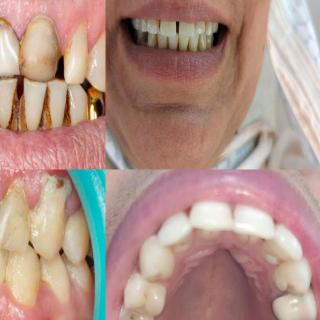Gum Swelling: (0, 278, 95, 320)
calculus: (39, 170, 79, 212), (9, 86, 31, 134), (38, 94, 56, 134), (70, 202, 86, 234), (0, 11, 15, 43), (61, 89, 73, 127)
plaque: (0, 252, 23, 308), (22, 201, 46, 237), (35, 261, 52, 290), (0, 197, 8, 238)
stains: (0, 174, 32, 249)
